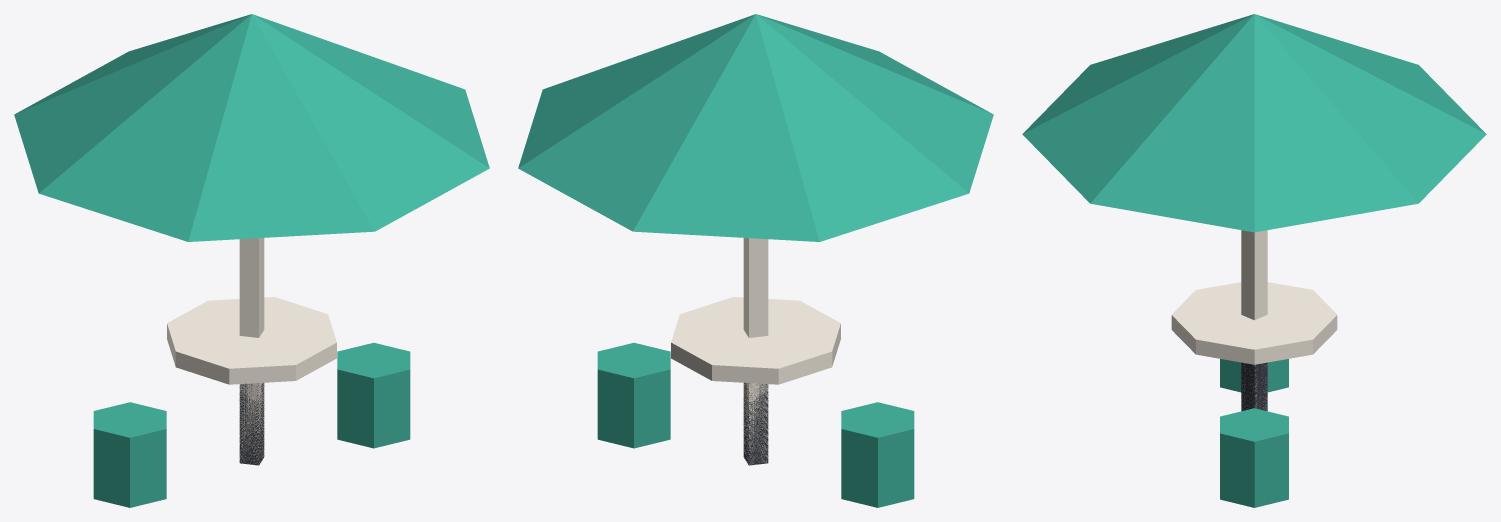
Rendered from prop_cafe_table.glb.
The picture shows the model from 3 angles, left to right: view 1: azimuth 30°, elevation 25°; view 2: azimuth 150°, elevation 25°; view 3: azimuth 270°, elevation 25°; orthographic projection. The views are drawn at different scales.
Visible parts, largest first — view 1: prop_cafe_table; view 2: prop_cafe_table; view 3: prop_cafe_table.
Boxes of the visible parts, bbox=[...] form: prop_cafe_table: bbox=[14, 14, 489, 507]; prop_cafe_table: bbox=[518, 14, 993, 507]; prop_cafe_table: bbox=[1022, 14, 1486, 507].
Size of the model in its own units: 0.14 by 0.14 by 0.14.
